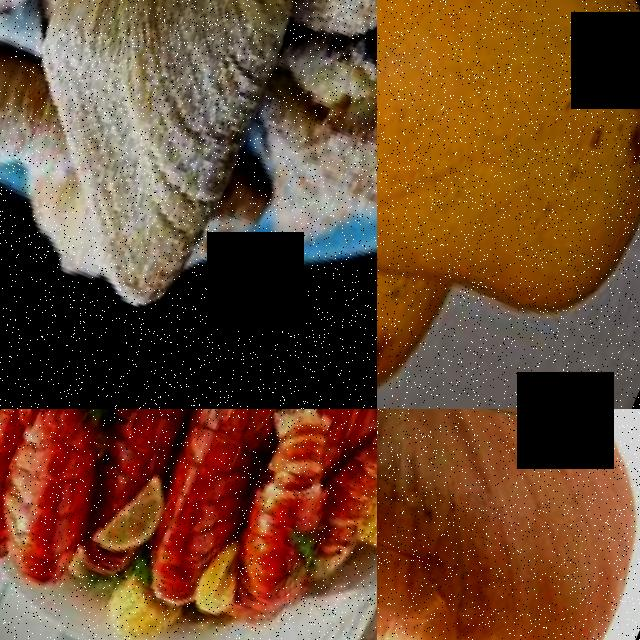lobster tails: (219, 409, 366, 611), (0, 416, 126, 594), (141, 409, 286, 553), (83, 409, 209, 493), (0, 409, 61, 560)
mango: (377, 0, 640, 370)
onion: (377, 409, 640, 640)
